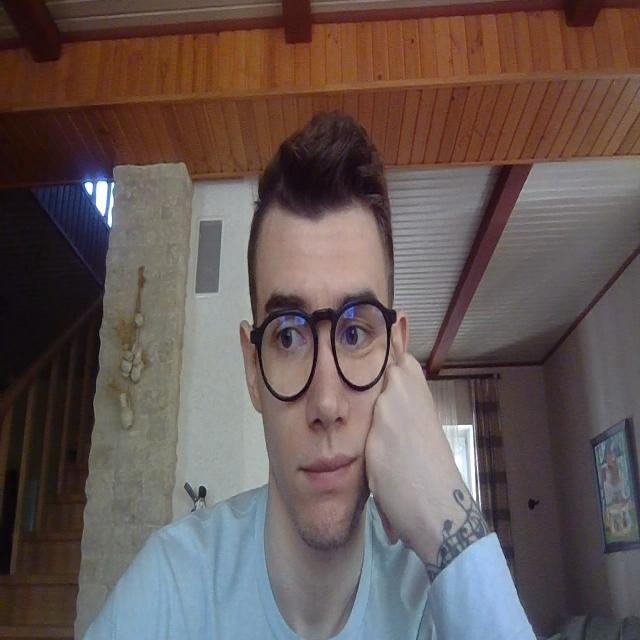live: (259, 210, 390, 550)
